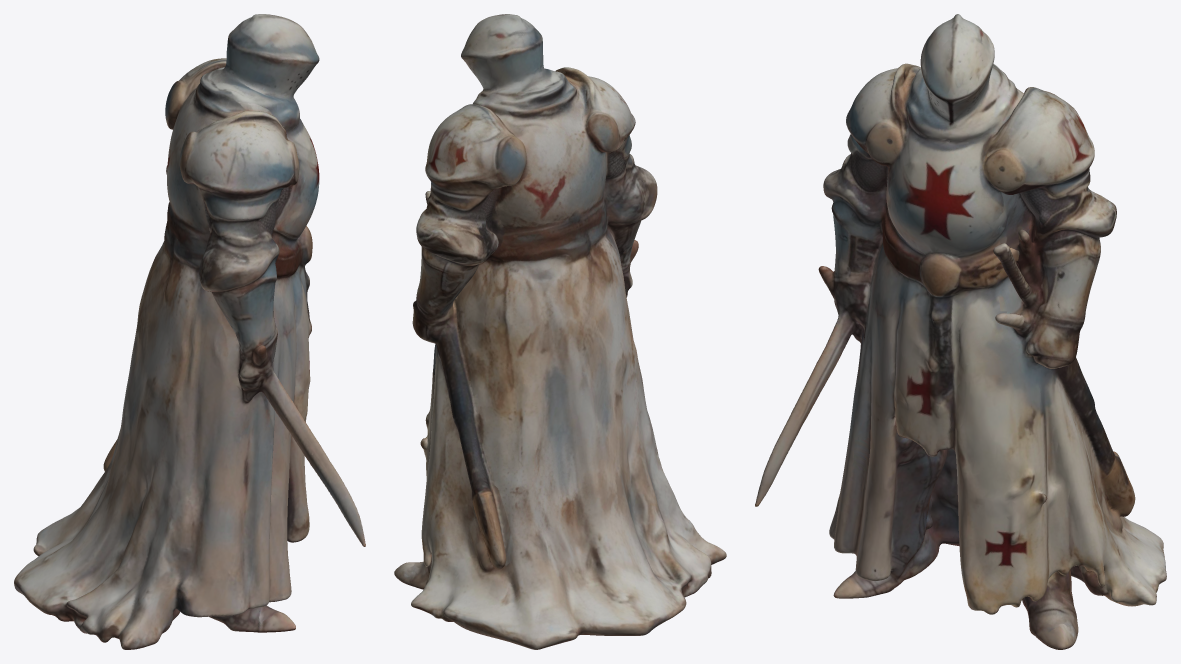
The model's file is knight.glb.
3 renders of one model, left to right at view 1: azimuth 30°, elevation 25°; view 2: azimuth 150°, elevation 25°; view 3: azimuth 270°, elevation 25°, orthographic. The views are drawn at different scales.
Visible parts, largest first — view 1: Object_4; view 2: Object_4; view 3: Object_4.
Boxes of the visible parts, bbox=[...] form: Object_4: bbox=[14, 14, 365, 649]; Object_4: bbox=[394, 14, 726, 649]; Object_4: bbox=[755, 14, 1166, 649].
Bounding box in the file's own units: 15485 × 30996 × 19292.
1 material, 1 textured.
